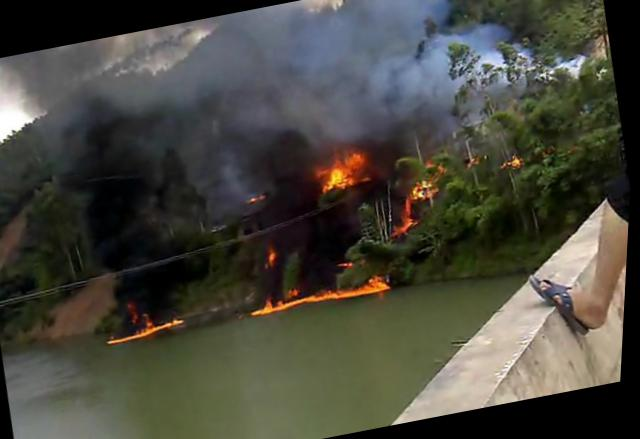fire: (311, 280, 394, 303), (317, 155, 368, 189), (109, 328, 151, 343), (398, 197, 415, 227), (411, 179, 434, 198), (149, 319, 185, 331), (262, 296, 275, 314), (368, 272, 384, 285), (292, 294, 312, 304), (275, 300, 292, 310), (339, 258, 357, 267), (268, 248, 279, 261), (511, 155, 521, 168), (394, 223, 406, 233), (252, 306, 265, 314)
